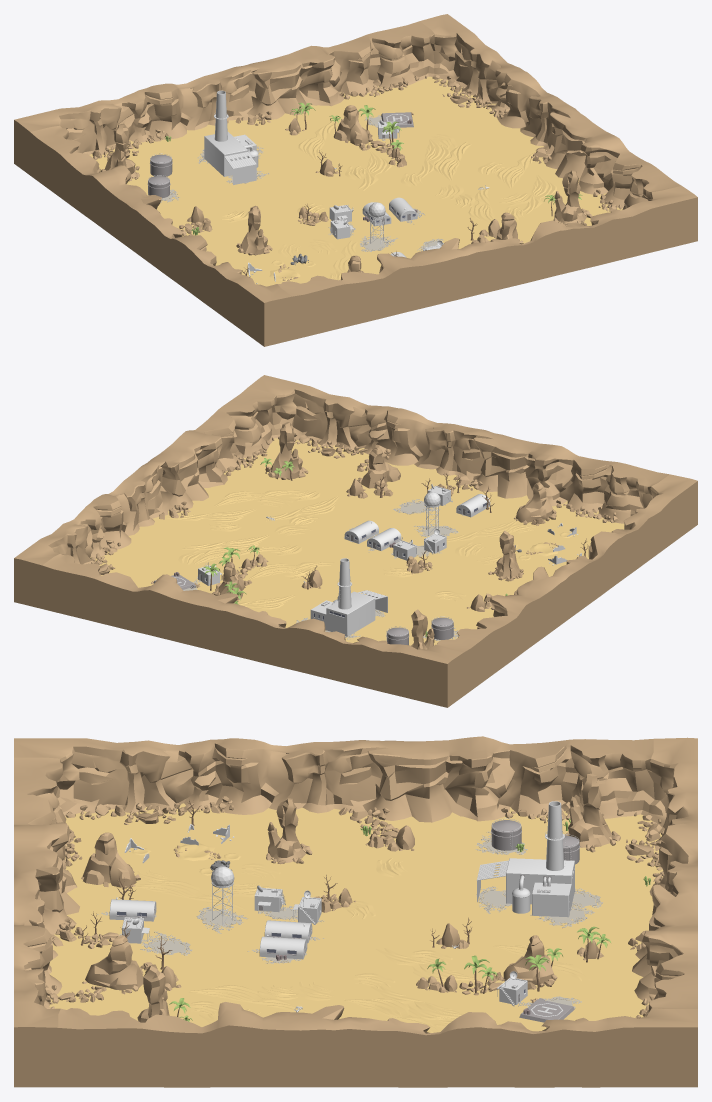
Rendered from CompleteLevelArt.gltf.
The picture shows the model from 3 angles, top to bottom: view 1: azimuth 30°, elevation 25°; view 2: azimuth 150°, elevation 25°; view 3: azimuth 270°, elevation 25°; orthographic projection. The views are drawn at different scales.
Visible parts, largest first — view 1: GroundPlane, Cliff (2), Boundaries, Cliff (1), Cliff (3), Refinery, Column01 (1), Column01 (2), Column02, Column01, Dunes02 (7), Dunes02 (5) (+5 smaller); view 2: GroundPlane, Boundaries, Cliff (2), Cliff (3), Cliff (1), Refinery, Column01 (1), Column02 (3), Column02 (2), Column01 (2), Column01, Dunes02 (4) (+8 smaller); view 3: GroundPlane, Cliff (3), Cliff (1), Cliff (2), Boundaries, Refinery, Column01, Column02 (2), Column02 (3), Column01 (2), Column02, Column01 (1) (+21 smaller).
Part boxes in pixels (x1,y1,x2,y2): GroundPlane: [89, 76, 622, 286]; Cliff (2): [277, 185, 697, 339]; Boundaries: [14, 21, 435, 175]; Cliff (1): [30, 125, 292, 346]; Cliff (3): [420, 14, 681, 211]; Refinery: [204, 90, 258, 184]; Column01 (1): [553, 170, 592, 225]; Column01 (2): [236, 205, 272, 255]; Column02: [333, 105, 372, 145]; Column01: [100, 123, 139, 181]; Dunes02 (7): [298, 121, 336, 160]; Dunes02 (5): [434, 142, 471, 180]; GroundPlane: [90, 438, 624, 645]; Boundaries: [42, 553, 463, 707]; Cliff (2): [248, 375, 669, 523]; Cliff (3): [14, 387, 277, 608]; Cliff (1): [436, 474, 697, 695]; Refinery: [310, 558, 387, 636]; Column01 (1): [265, 422, 308, 479]; Column02 (3): [514, 482, 556, 525]; Column02 (2): [357, 446, 400, 488]; Column01 (2): [488, 530, 523, 581]; Column01: [411, 609, 434, 649]; Dunes02 (4): [214, 490, 299, 506]; GroundPlane: [49, 803, 663, 1032]; Cliff (3): [58, 1002, 697, 1087]; Cliff (1): [14, 736, 654, 824]; Cliff (2): [14, 757, 83, 1087]; Boundaries: [625, 737, 697, 1018]; Refinery: [476, 801, 574, 917]; Column01: [565, 773, 620, 852]; Column02 (2): [82, 935, 143, 994]; Column02 (3): [81, 832, 140, 889]; Column01 (2): [266, 798, 312, 864]; Column02: [502, 935, 557, 989]; Column01 (1): [137, 966, 169, 1022].
Size of the model in its own units: 110 by 18.37 by 110.
